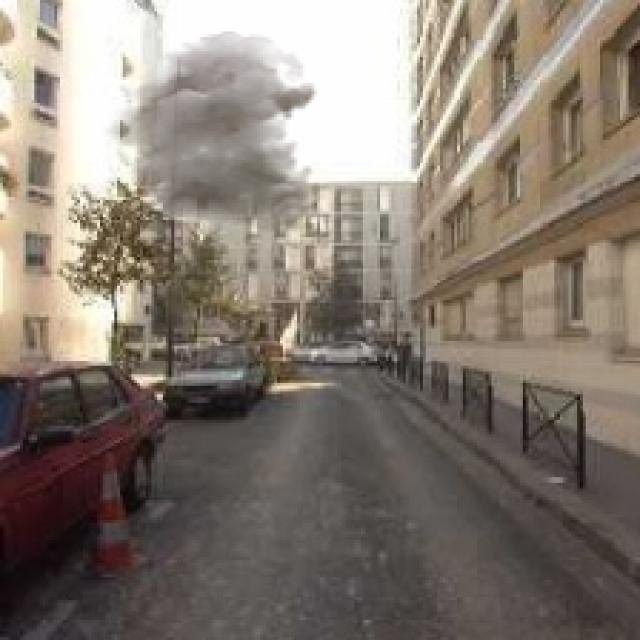smoke: (103, 32, 323, 235)
